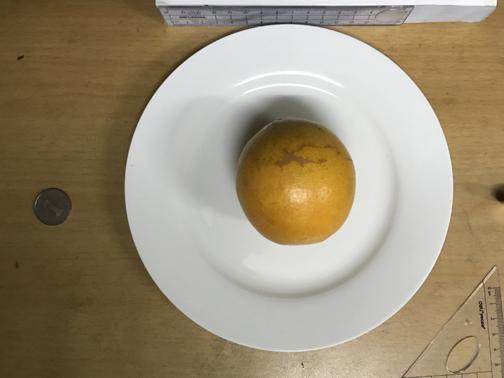coin: (33, 187, 71, 226)
orange: (238, 117, 356, 246)
